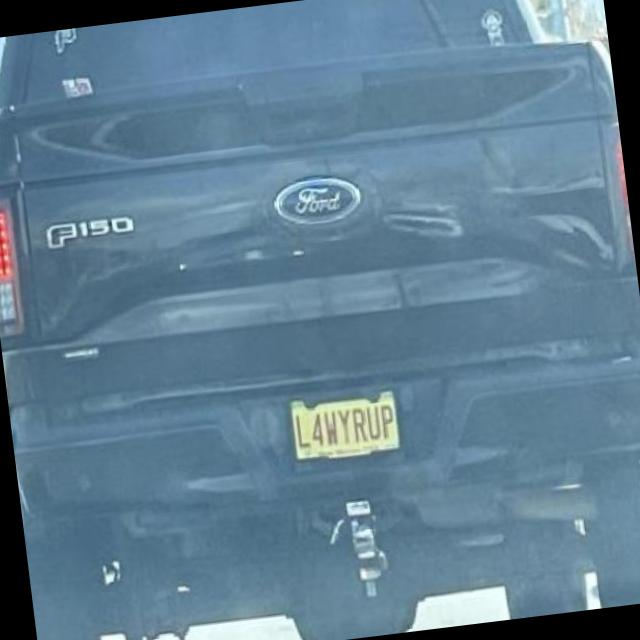LicensePlate: (285, 387, 401, 464)
